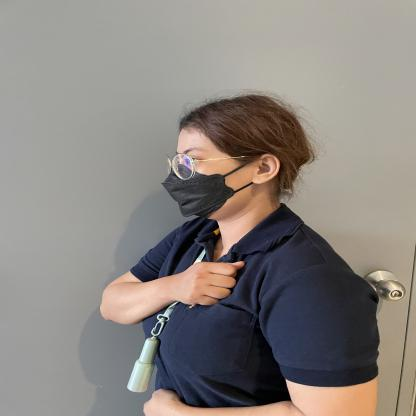Sadness: (78, 247, 290, 330)
